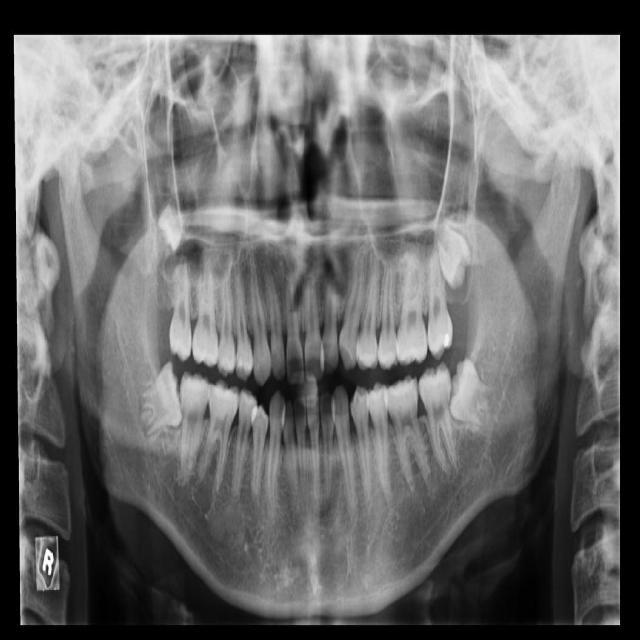3M ESPE Implant: (159, 200, 184, 250)
52: (426, 307, 453, 361)
73: (596, 575, 608, 591)
BioHorizons Implant: (428, 249, 453, 361)
BioLife Implant: (431, 219, 478, 292)
Biomet 3i Implant: (442, 354, 504, 430)
Blue Sky Bio Implant: (417, 362, 458, 473)
Caries: (164, 256, 193, 363)
Implant: (175, 371, 211, 483)
Keystone Dental Implant: (131, 361, 187, 436)
